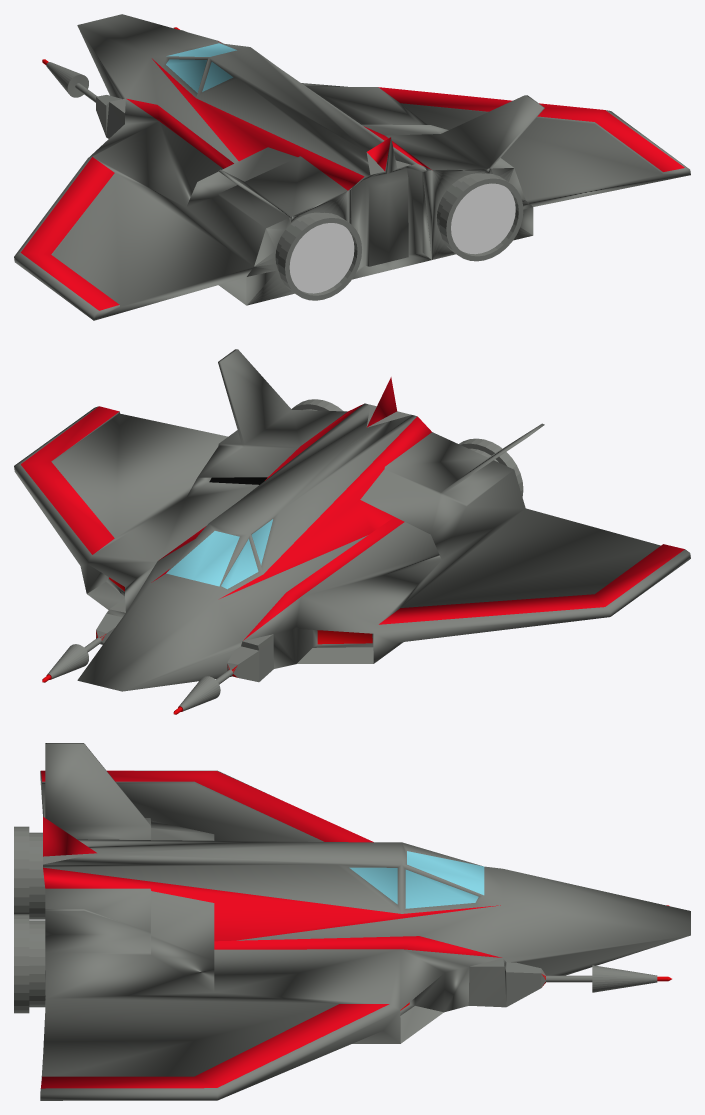
Rendered from Falcon Mk I.fbx.
3 renders of one model, top to bottom at view 1: azimuth 30°, elevation 25°; view 2: azimuth 150°, elevation 25°; view 3: azimuth 270°, elevation 25°, orthographic. The views are drawn at different scales.
Parts seen in each view (by area): view 1: Model; view 2: Model; view 3: Model.
Boxes of the visible parts, <box> form: Model: <box>14,14,690,320</box>; Model: <box>14,349,690,714</box>; Model: <box>14,743,690,1100</box>.
Size of the model in its own units: 1758 by 379 by 1553.
6 materials, 1 textured.
